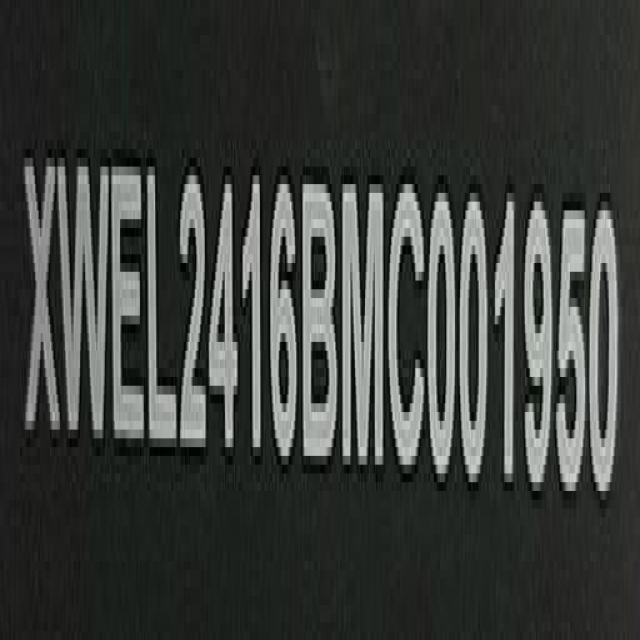0: (592, 207, 622, 504), (458, 189, 487, 492), (430, 184, 458, 489)
1: (496, 190, 520, 495), (241, 169, 262, 470)
2: (182, 169, 211, 467)
4: (211, 173, 240, 468)
5: (555, 199, 586, 501)
6: (269, 170, 300, 470)
9: (524, 198, 553, 494)
B: (302, 173, 340, 472)
C: (386, 178, 427, 482)
E: (112, 160, 148, 460)
L: (147, 164, 180, 466)
M: (344, 176, 385, 476)
W: (60, 150, 110, 458)
X: (22, 148, 59, 456)
